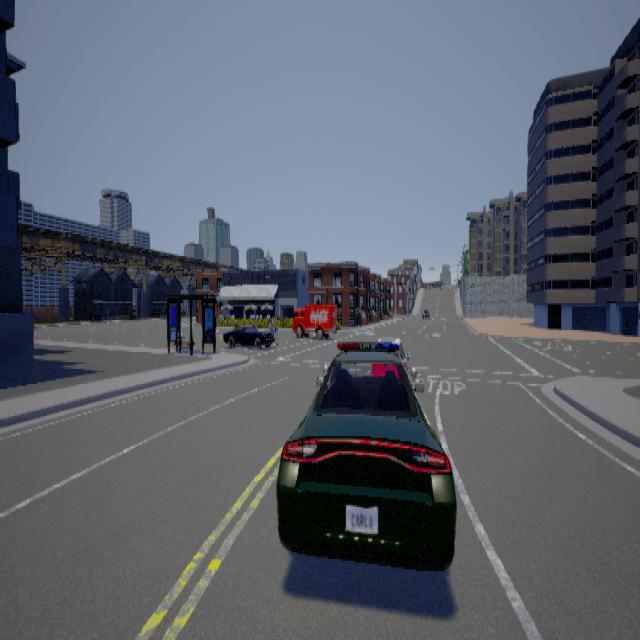vehicle: (275, 335, 456, 569), (291, 303, 336, 339), (222, 323, 277, 349)
